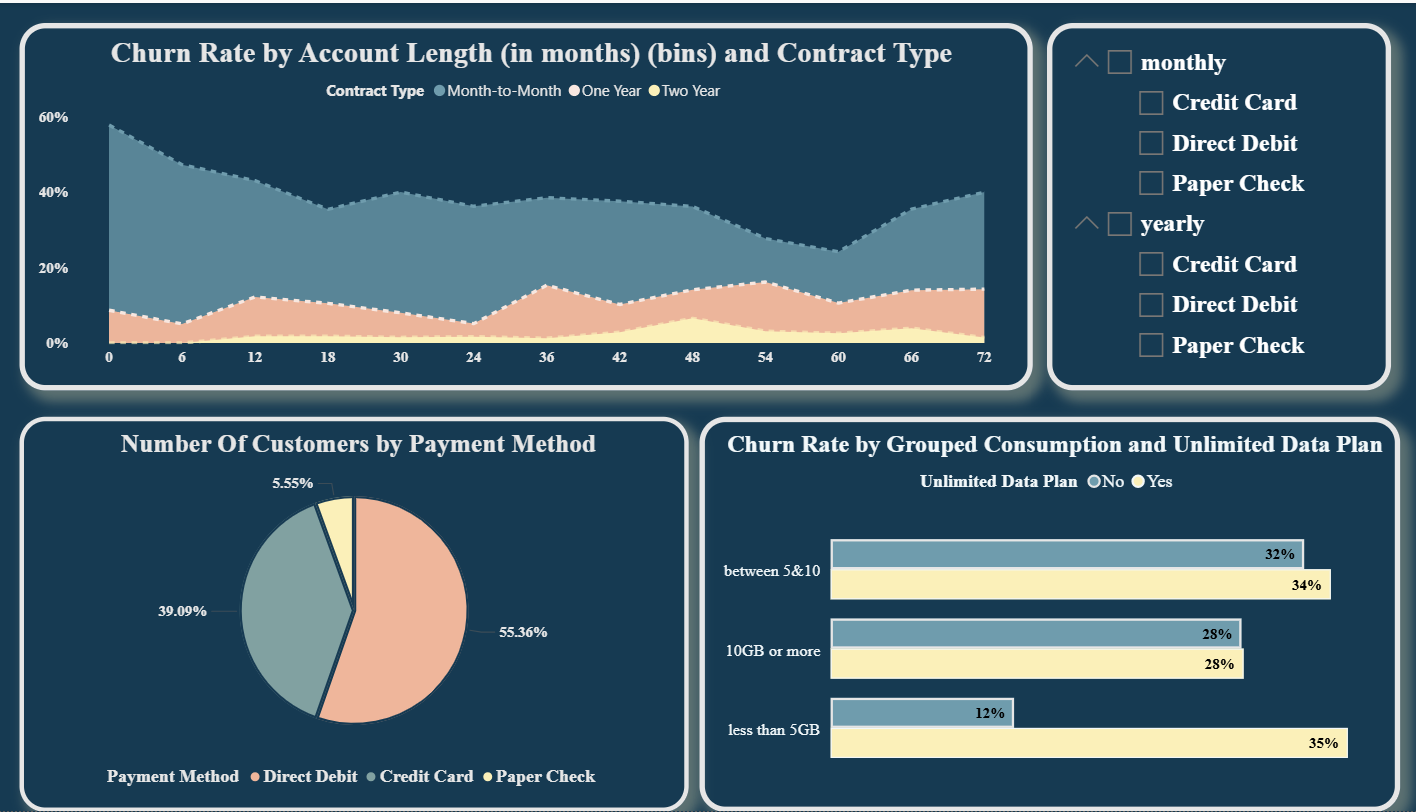

The page's visual inventory and layout, read from the dashboard file:
{"tool":"powerbi","page":{"name":"Contract&Payment","canvas":[1280,720],"ordinal":3},"visuals":[{"type":"areaChart","fields":{"Y":["Databel - Data (2).Churn Rate"],"Series":["Databel - Data.Contract Type"],"Category":["Databel - Data.Account Length (in months) (bins)"]},"box":[33.8,18.1,902.4,326.9],"z":0},{"type":"slicer","fields":{"Values":["Databel - Data.Contract Category","Databel - Data.Payment Method"]},"box":[948.3,18.1,306.4,326.9],"z":1000},{"type":"pieChart","fields":{"Category":["Databel - Data.Payment Method"],"Y":["Databel - Data (2).Number Of Customers"]},"box":[33.8,368,596,352.3],"z":2000},{"type":"clusteredBarChart","fields":{"Category":["Databel - Data.Grouped Consumption"],"Y":["Databel - Data (2).Churn Rate"],"Series":["Databel - Data (2).Unlimited Data Plan"]},"box":[639.4,368,623.7,352.3],"z":3000}]}

Visuals, with their boxes in screenshot pixels (x1, y1, x2, y2), scaled from the page's 1280x720 canvas onto the 1416x812 screenshot:
areaChart - Databel - Data (2).Churn Rate x Databel - Data.Contract Type: [left=37, top=20, right=1036, bottom=389]
slicer - Databel - Data.Contract Category x Databel - Data.Payment Method: [left=1049, top=20, right=1388, bottom=389]
pieChart - Databel - Data.Payment Method x Databel - Data (2).Number Of Customers: [left=37, top=415, right=697, bottom=811]
clusteredBarChart - Databel - Data.Grouped Consumption x Databel - Data (2).Churn Rate: [left=707, top=415, right=1397, bottom=811]
